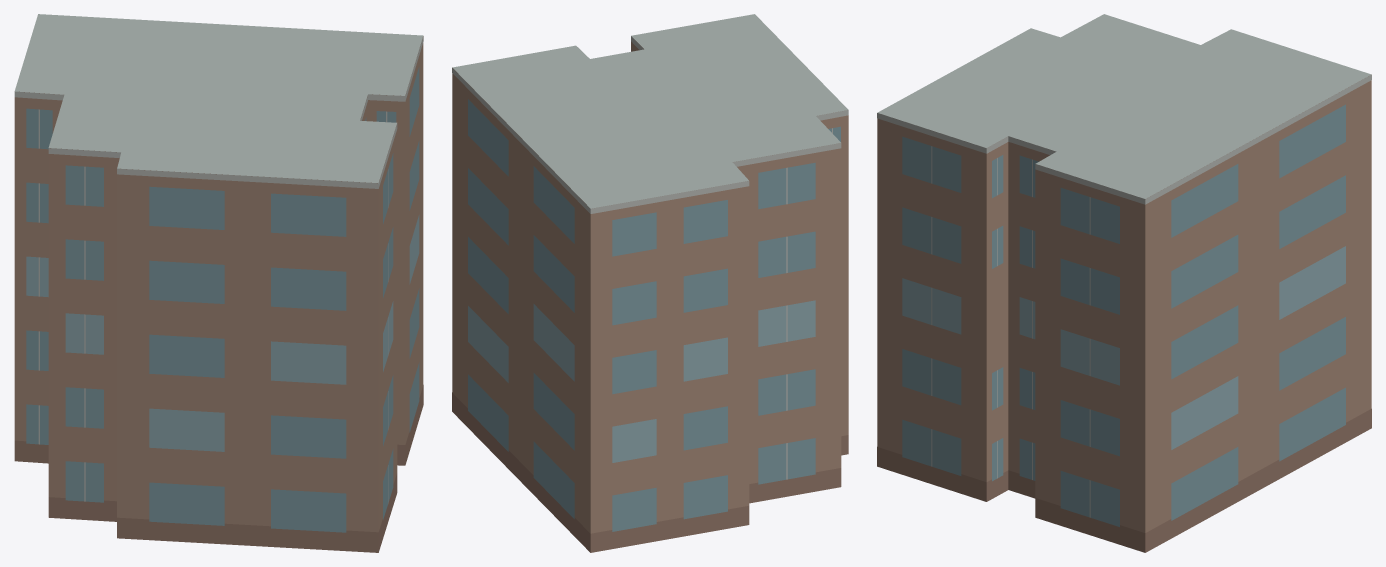
The model's file is survey-upis-32864888.glb.
The picture shows the model from 3 angles, left to right: view 1: azimuth 30°, elevation 25°; view 2: azimuth 150°, elevation 25°; view 3: azimuth 270°, elevation 25°; orthographic projection. The views are drawn at different scales.
Visible parts, largest first — view 1: survey-upis-32864888.tmp; view 2: survey-upis-32864888.tmp; view 3: survey-upis-32864888.tmp.
Part boxes in pixels (box(x1,y1,x2,y2)): survey-upis-32864888.tmp: box(14, 14, 423, 552); survey-upis-32864888.tmp: box(452, 14, 848, 552); survey-upis-32864888.tmp: box(877, 14, 1371, 552).
Bounding box in the file's own units: 17.29 × 15.4 × 19.52.
